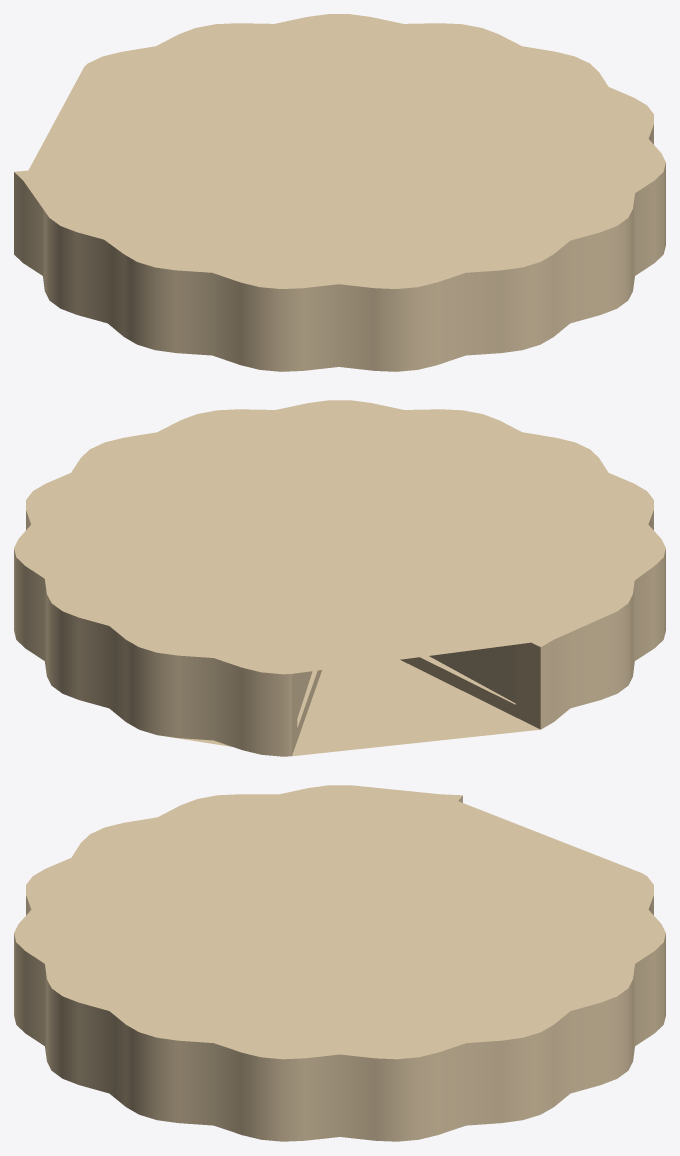
Rendered from uncooked_quiche.fbx.
The picture shows the model from 3 angles, top to bottom: view 1: azimuth 30°, elevation 25°; view 2: azimuth 150°, elevation 25°; view 3: azimuth 270°, elevation 25°; orthographic projection.
Parts seen in each view (by area): view 1: crust; view 2: crust, filling1; view 3: crust.
Boxes of the visible parts, x1=… form: crust: x1=14, y1=14, x2=665, y2=371; crust: x1=14, y1=400, x2=665, y2=756; filling1: x1=297, y1=644, x2=515, y2=717; crust: x1=14, y1=785, x2=665, y2=1141.
Size of the model in its own units: 42.14 by 5.91 by 42.37.
